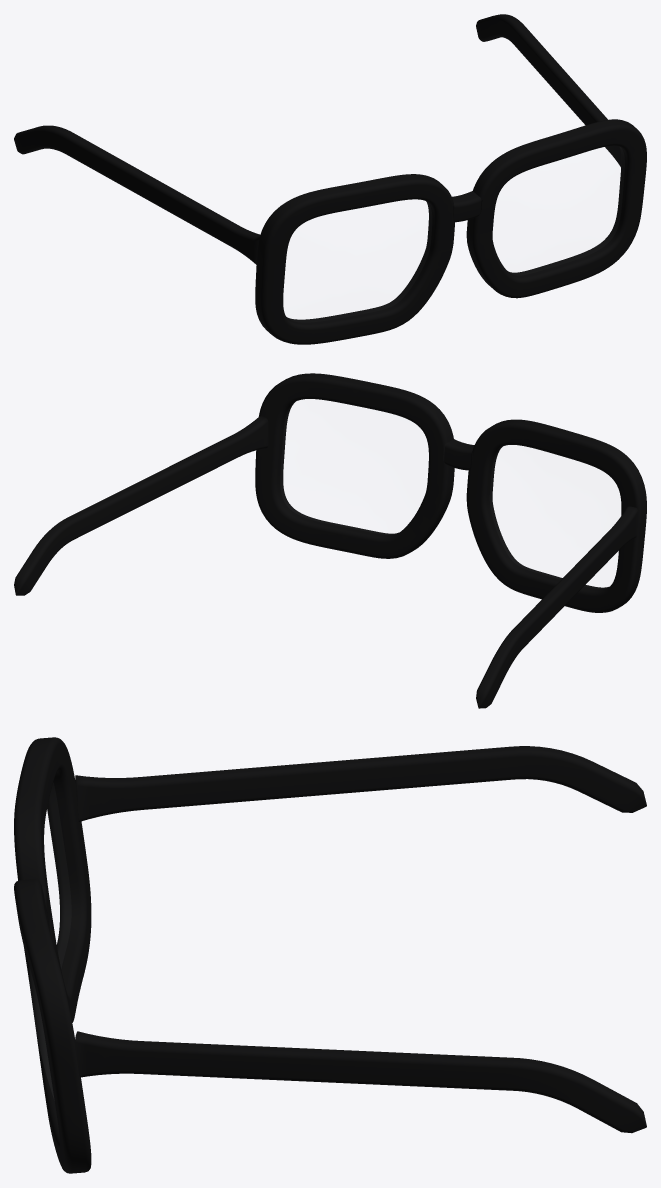
Rendered from square-chunky.glb.
3 renders of one model, top to bottom at view 1: azimuth 30°, elevation 25°; view 2: azimuth 150°, elevation 25°; view 3: azimuth 270°, elevation 25°, orthographic. The views are drawn at different scales.
Parts seen in each view (by area): view 1: glasses; view 2: glasses; view 3: glasses.
Boxes of the visible parts, x1,y1,x2,y2 form: glasses: (14,14,646,344); glasses: (14,373,646,708); glasses: (14,737,646,1173).
Bounding box in the file's own units: 0.1701 × 0.0549 × 0.1387.
2 materials, 1 textured.
